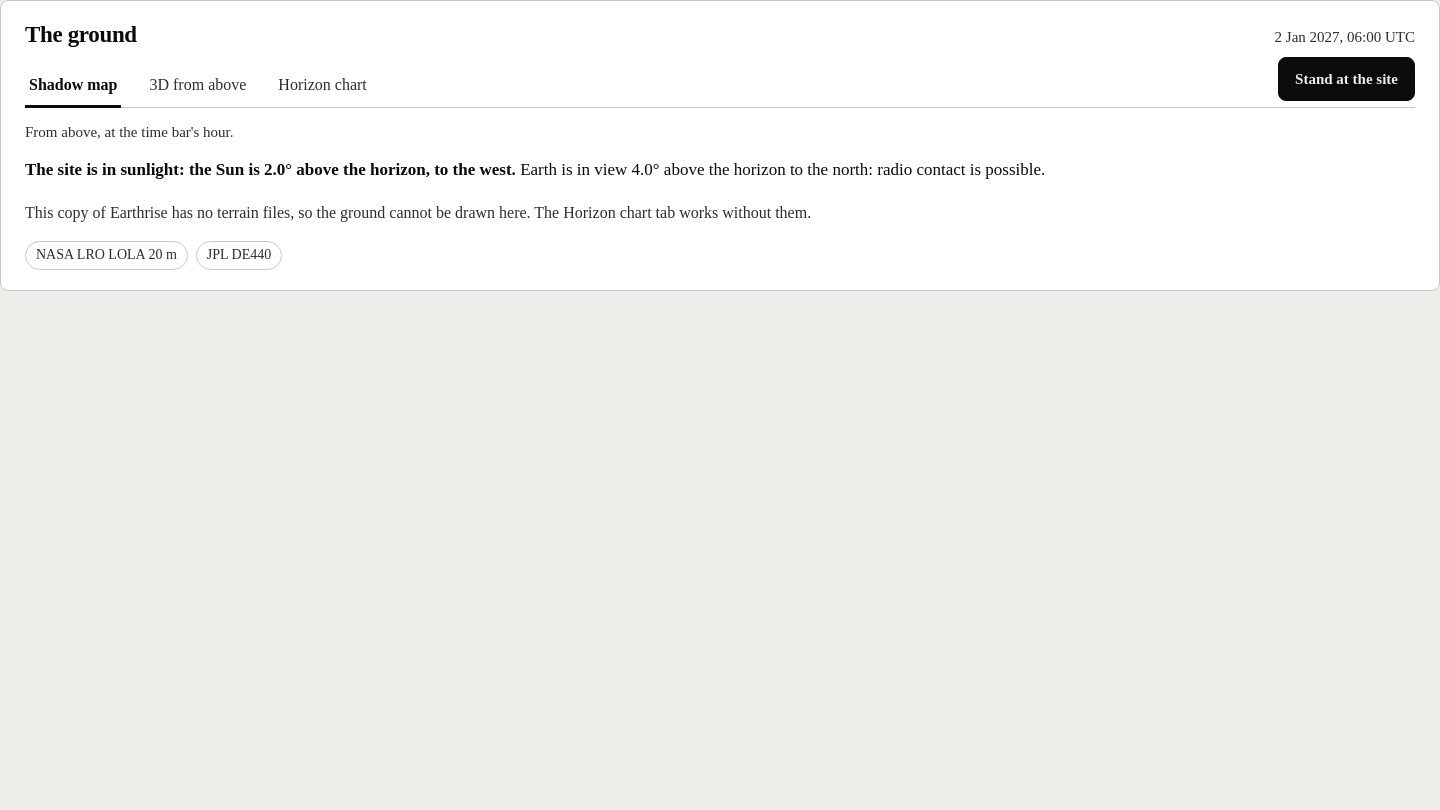
GroundPanel › puts the 3D picture on the whole screen, and offers the way back from there
Later steps or results of the test are not shown.
What coordinates should you click on to do the following:
click the tab "3D from above"
I would click on:
 (198, 86)
Its box is x1=146 y1=64 x2=250 y2=108.
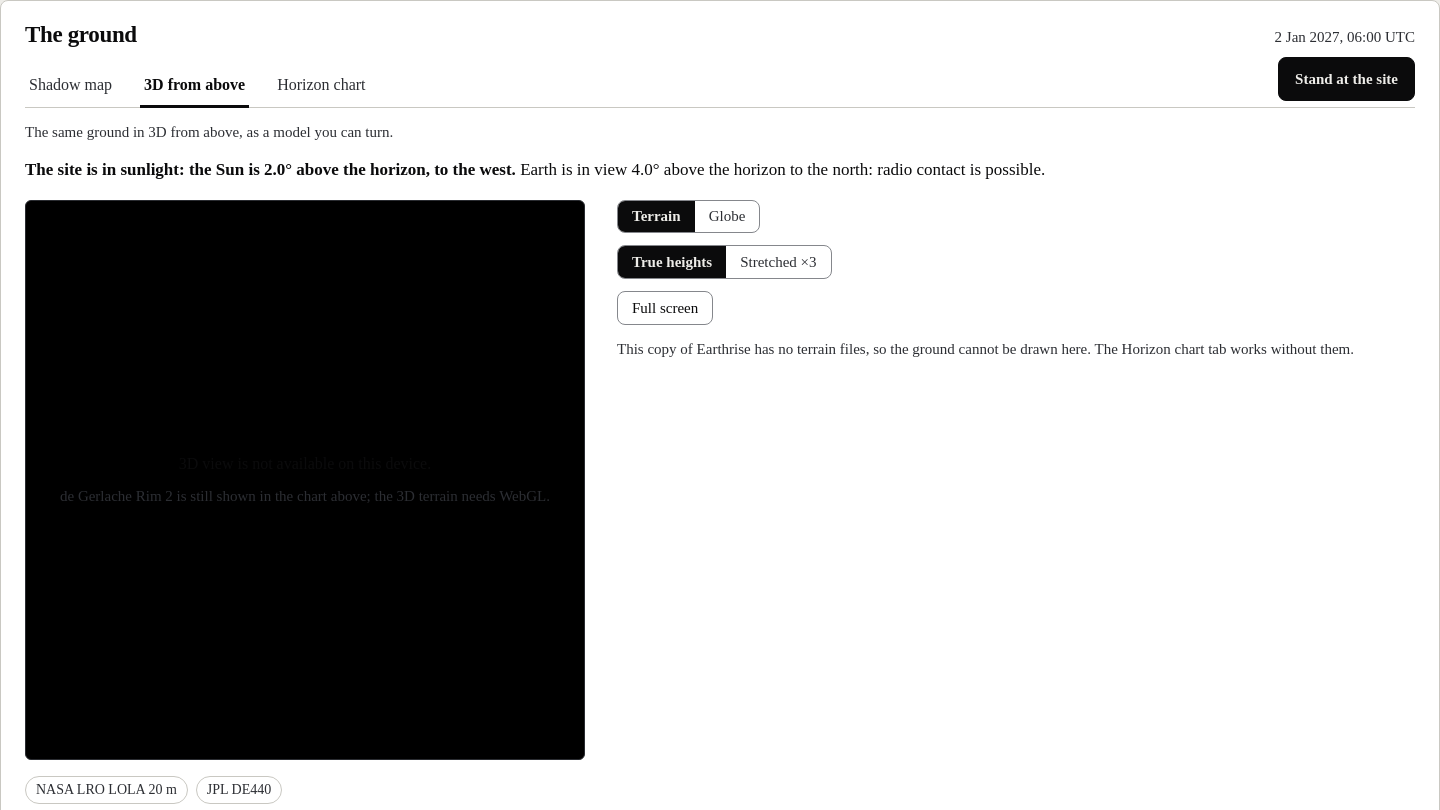
What coordinates should you click on to do the following:
click the button "Full screen"
I would click on:
 (665, 308)
Its box is x1=617 y1=291 x2=713 y2=325.
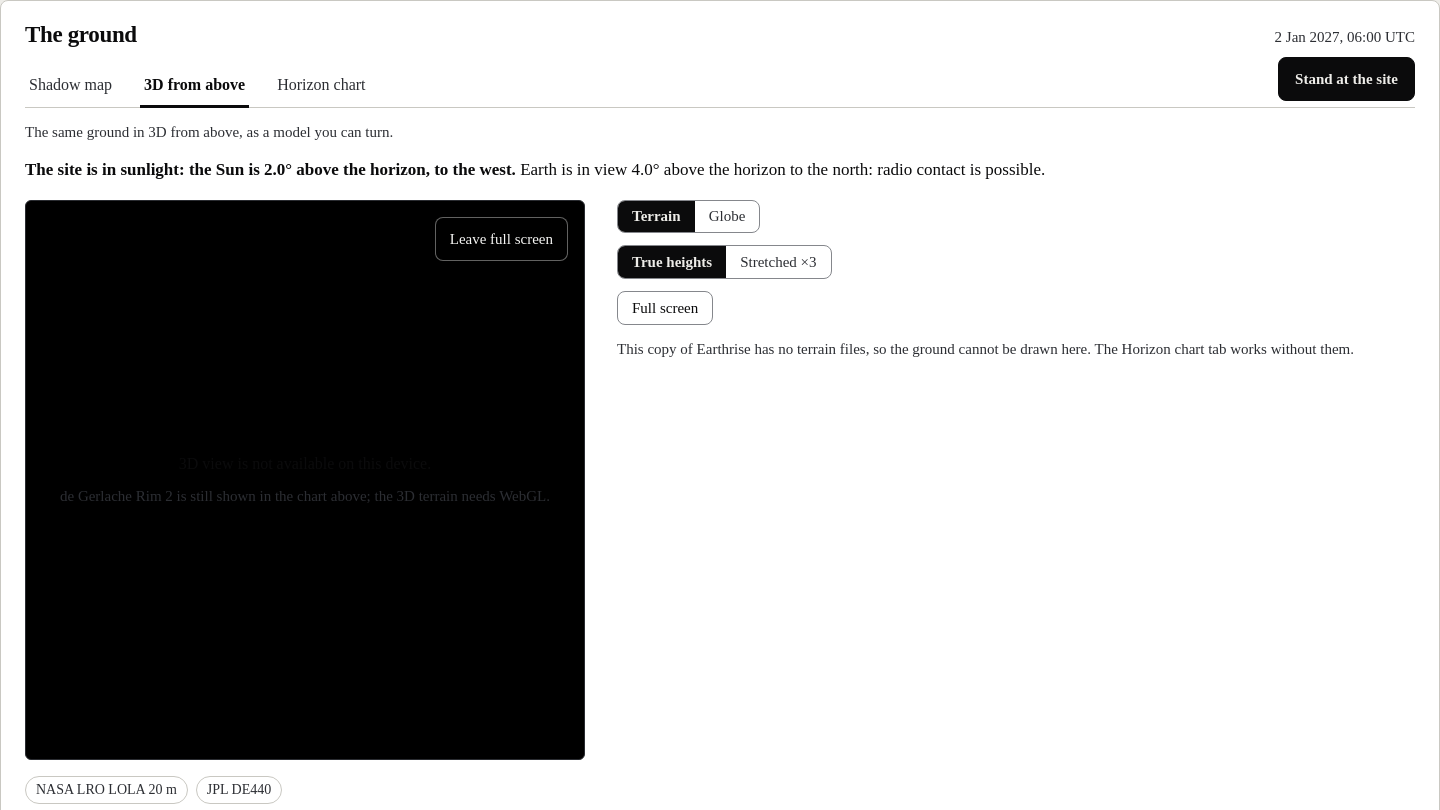
Expected: the message is shown, x1=60 y1=455 x2=550 y2=504
